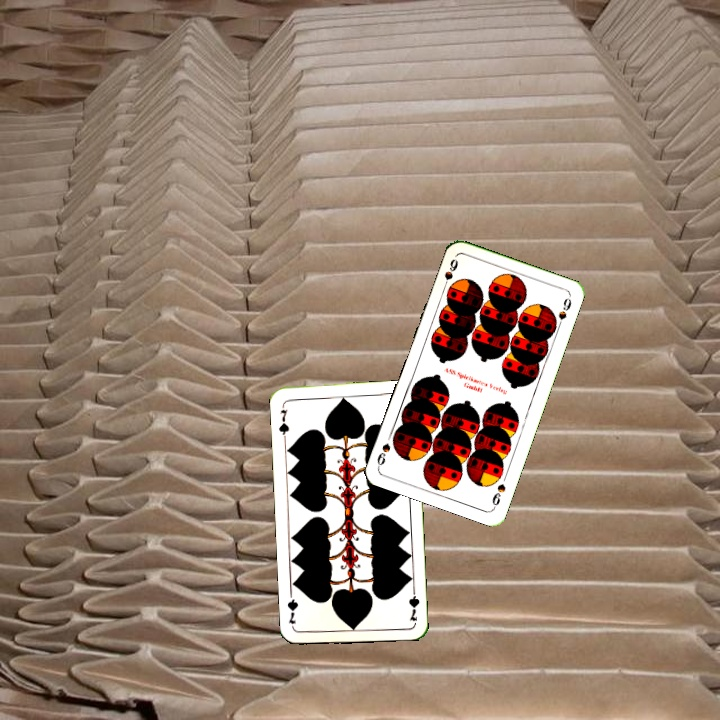G7: (405, 583, 422, 624), (275, 400, 292, 441)
S9: (438, 255, 461, 292), (488, 479, 508, 511)
